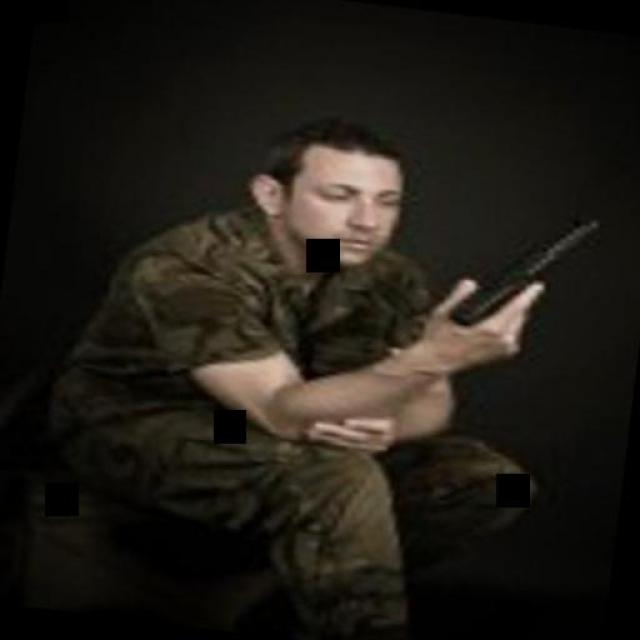gun: (435, 192, 597, 338)
